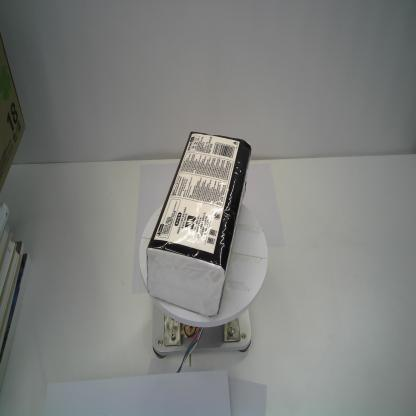Tissue: (146, 131, 252, 318)
